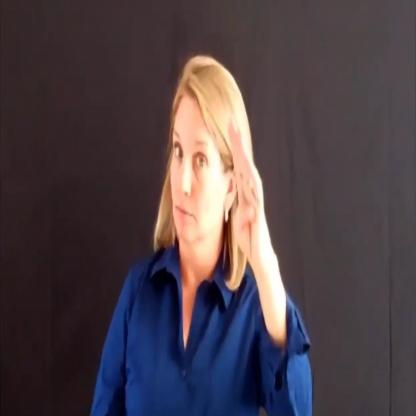Hello: (159, 64, 292, 352)
